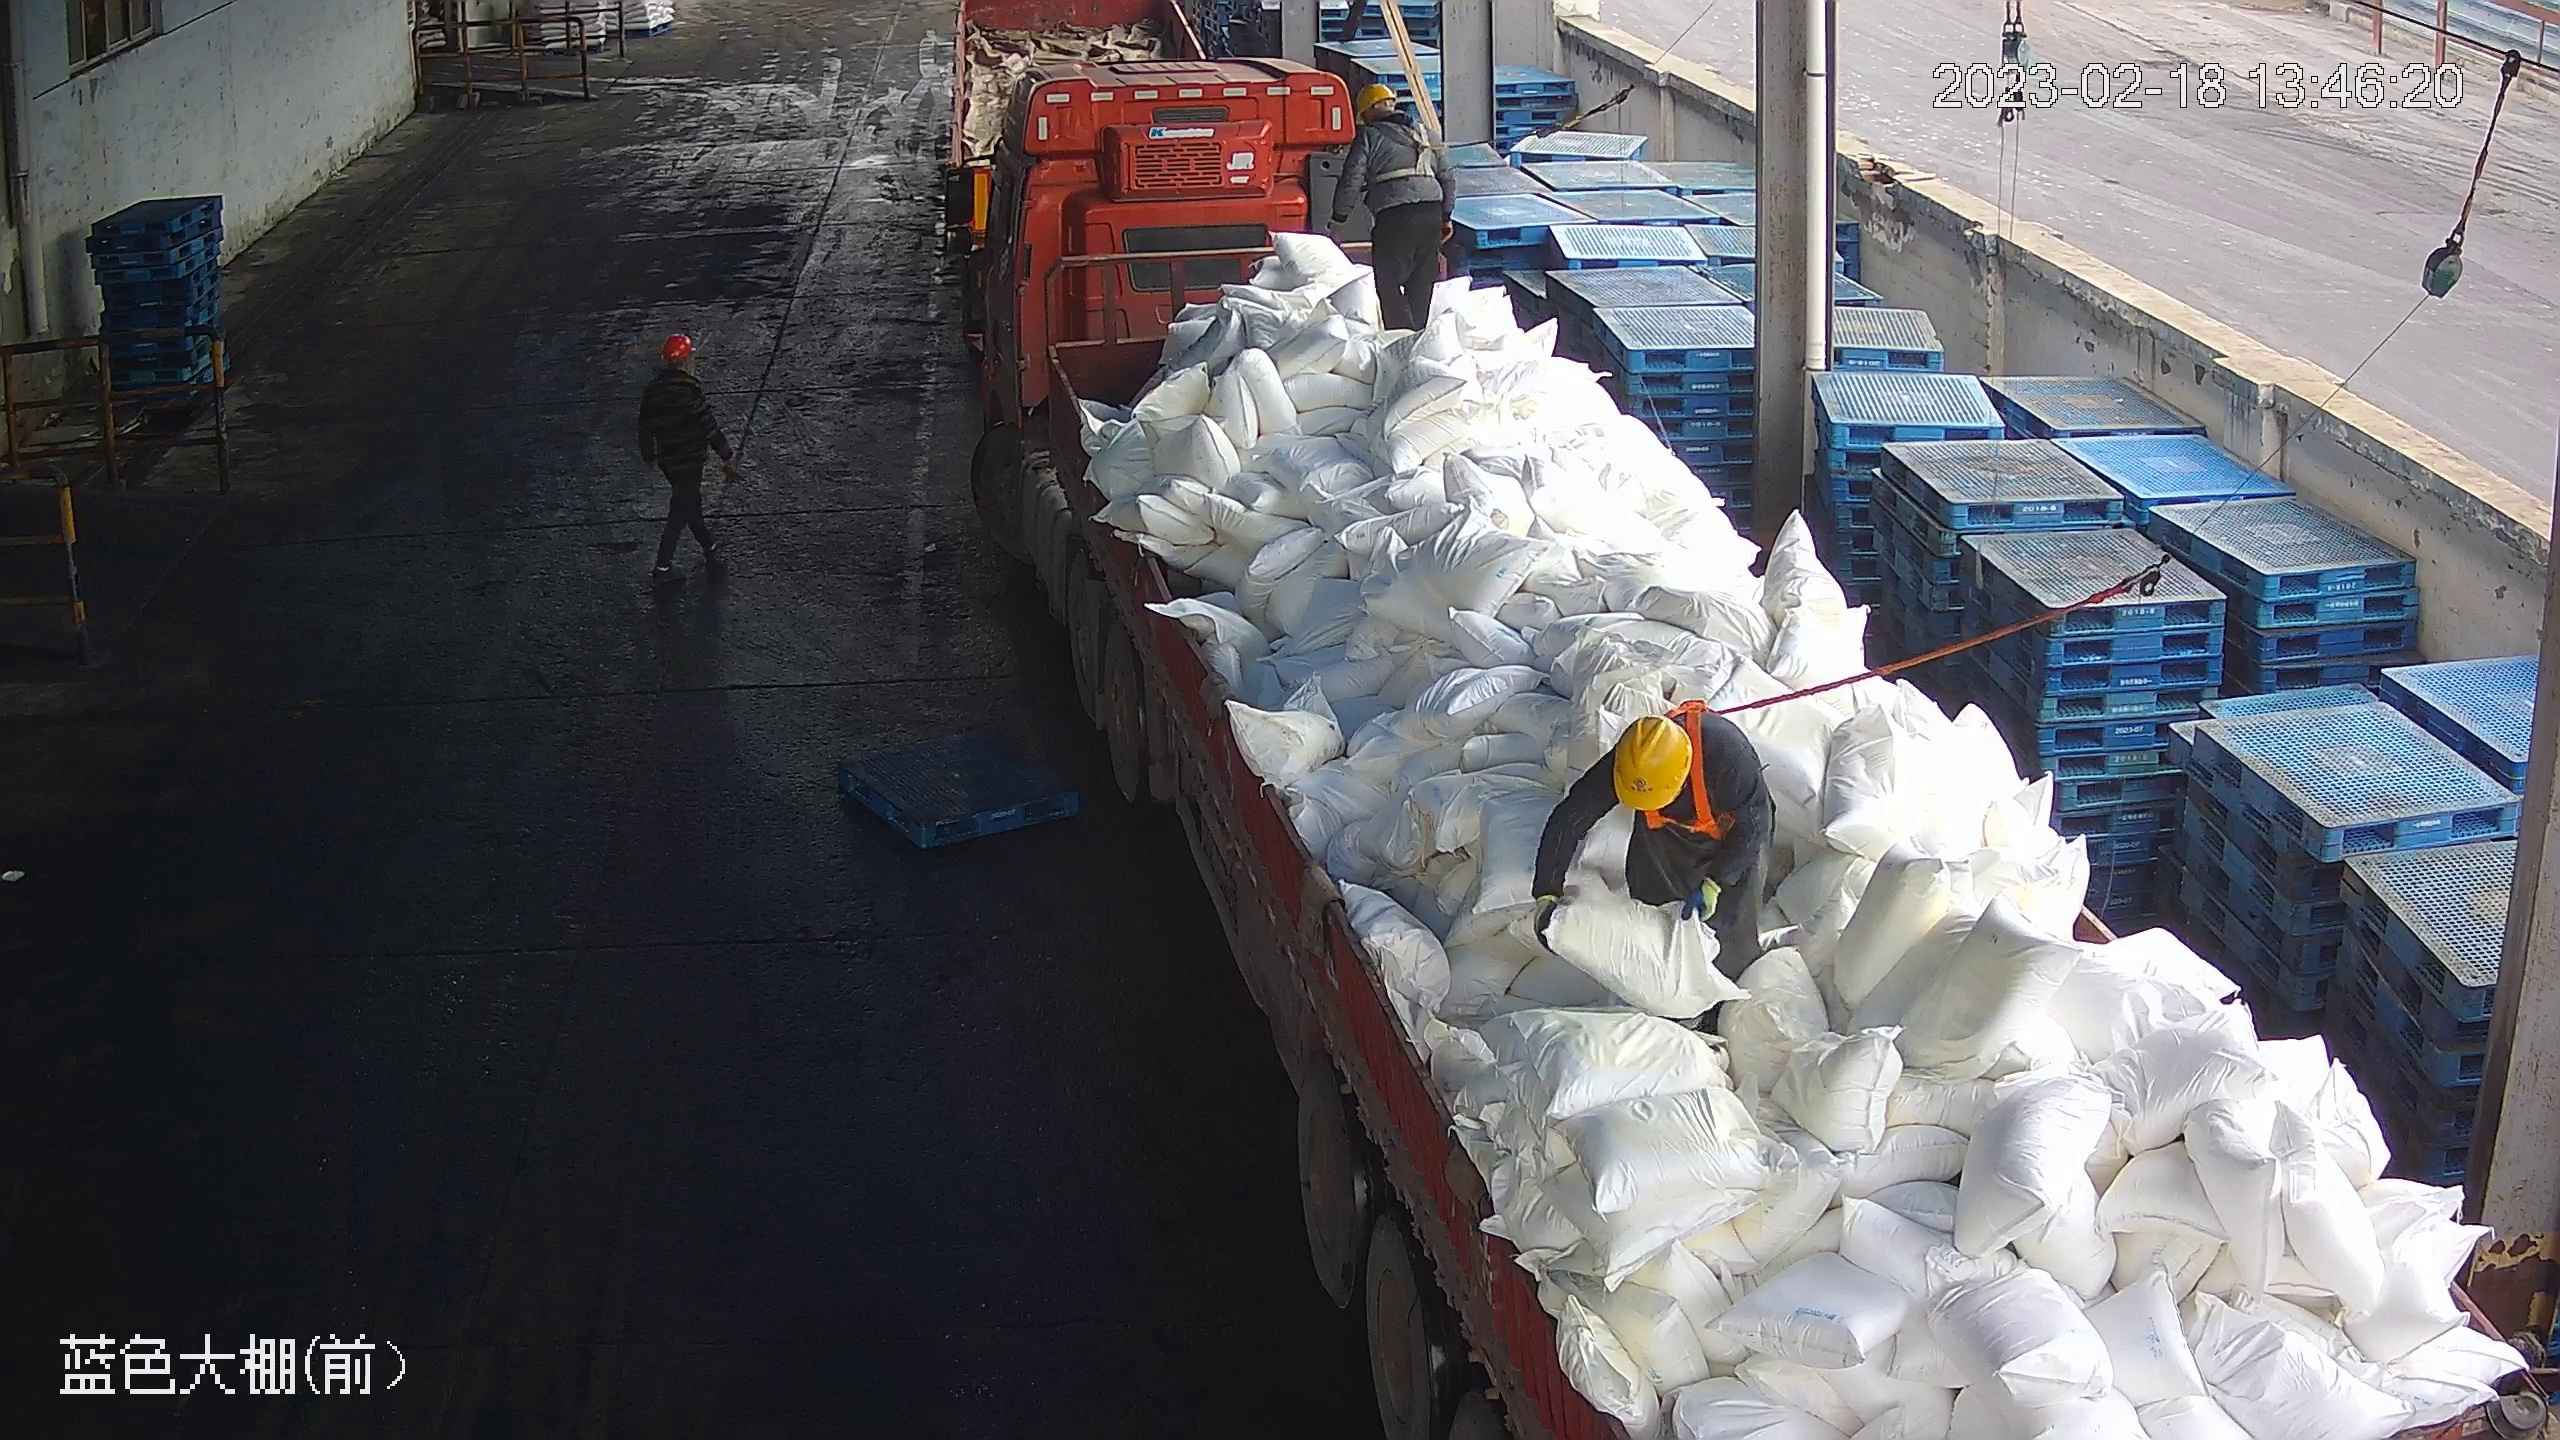belt: (1647, 689, 1747, 840), (1369, 114, 1452, 184)
head: (1592, 703, 1756, 843), (1349, 81, 1444, 157), (645, 330, 712, 406)
helmet: (1612, 715, 1692, 811), (1353, 80, 1398, 114), (662, 330, 698, 359)
people: (1531, 701, 1781, 1035), (1339, 78, 1455, 338), (636, 329, 740, 592)
truck: (931, 29, 2556, 1440)
